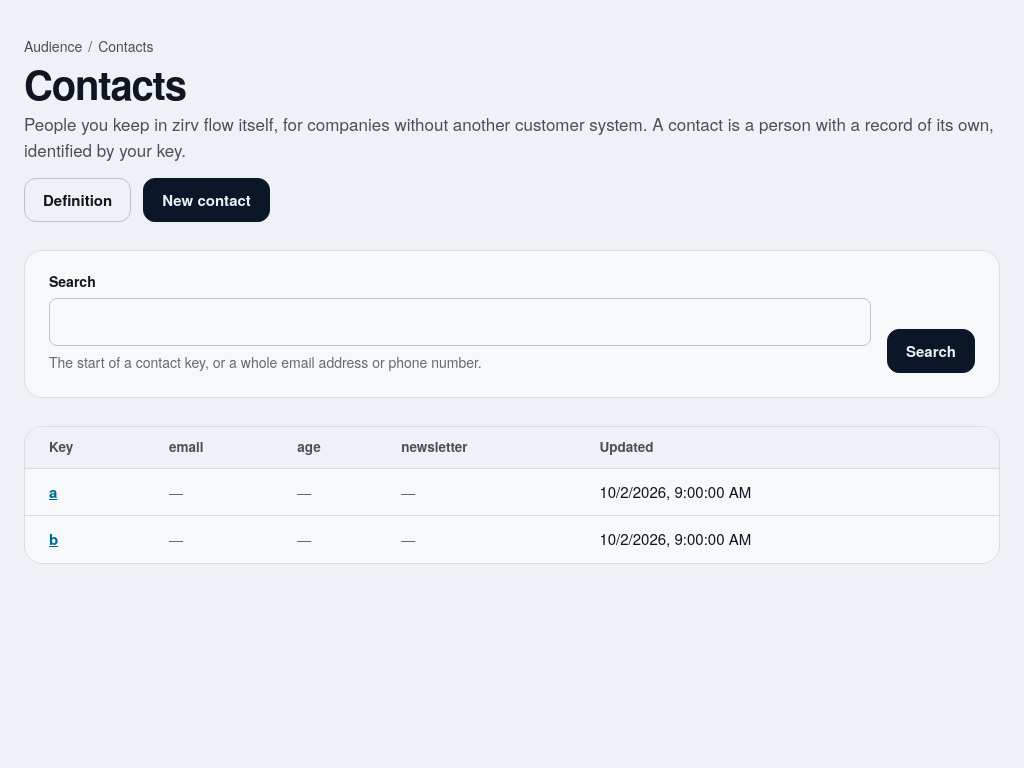
contacts list › searches with a POST so the value stays out of the URL, and can go back to everyone
Expected: the link "a" is shown, [49,481,57,503]
Type " bob@example.test " into the field labelled "Search" at (460, 322), box [49,298,871,346]
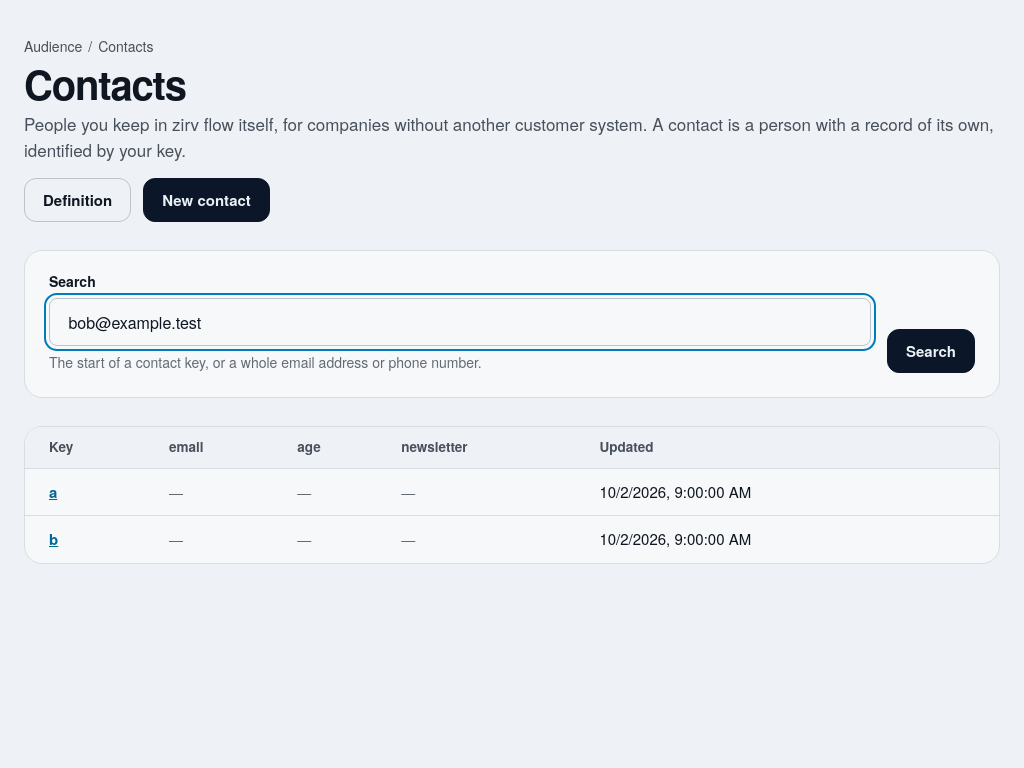
Click the button "Search" at (931, 351), box [887,329,975,373]
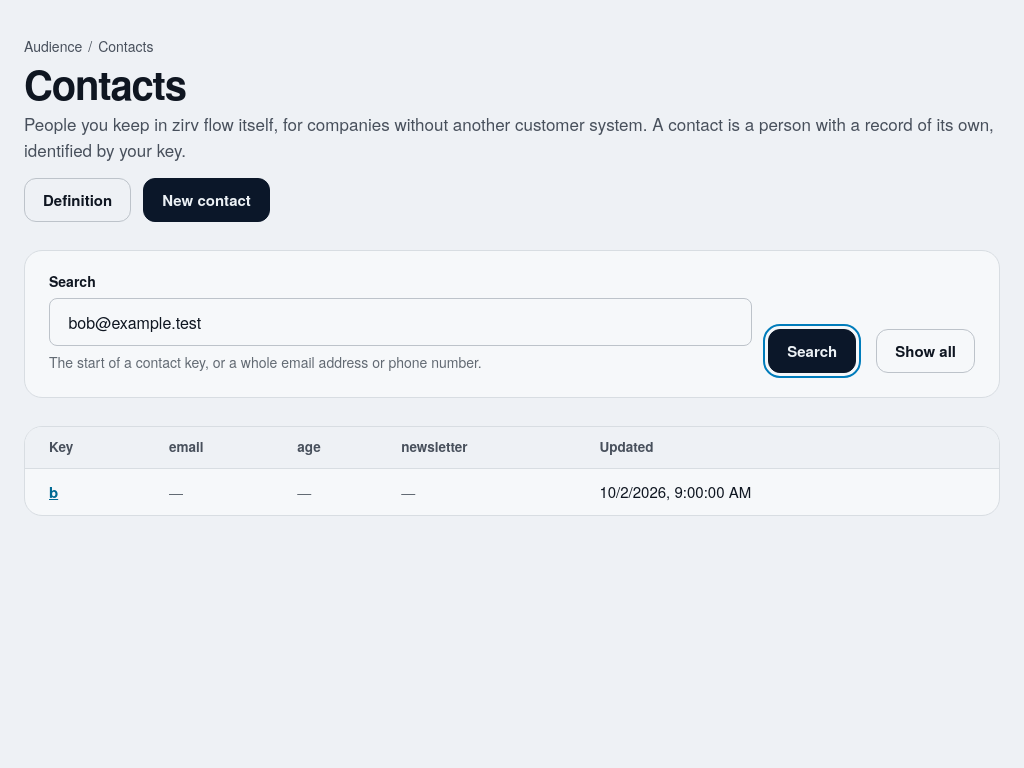
Expected: the link "b" is shown, [49,481,58,503]
Click the button "Show all" at (926, 351), box [876,329,975,373]
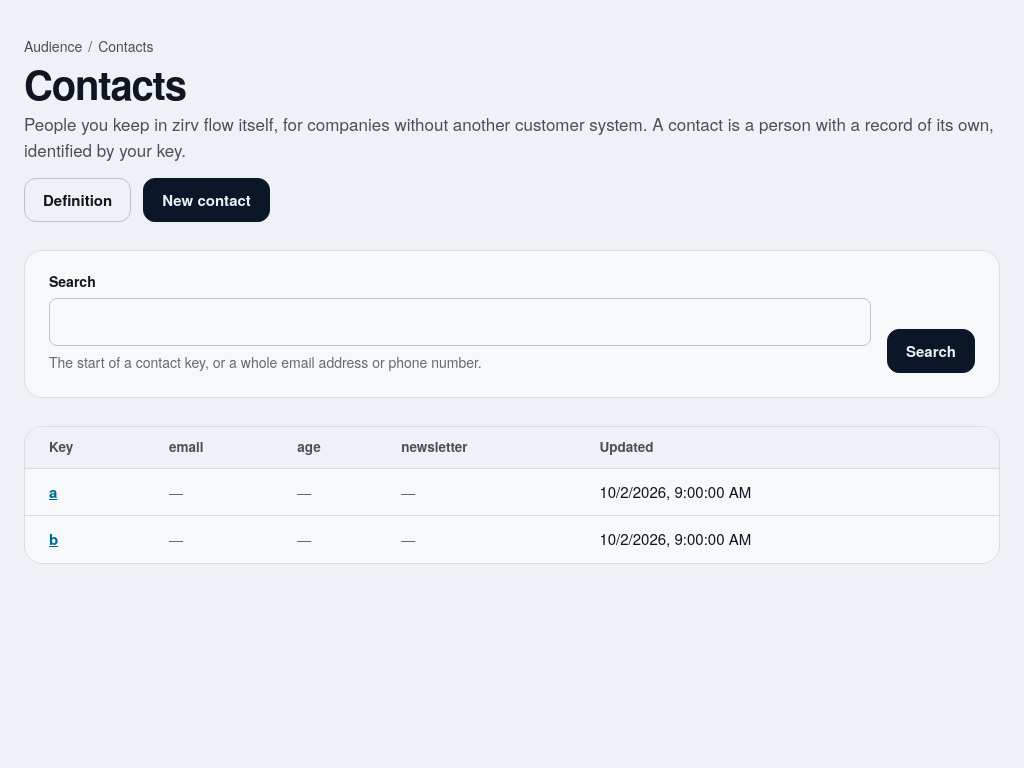
Expected: the link "a" is shown, [49,481,57,503]
